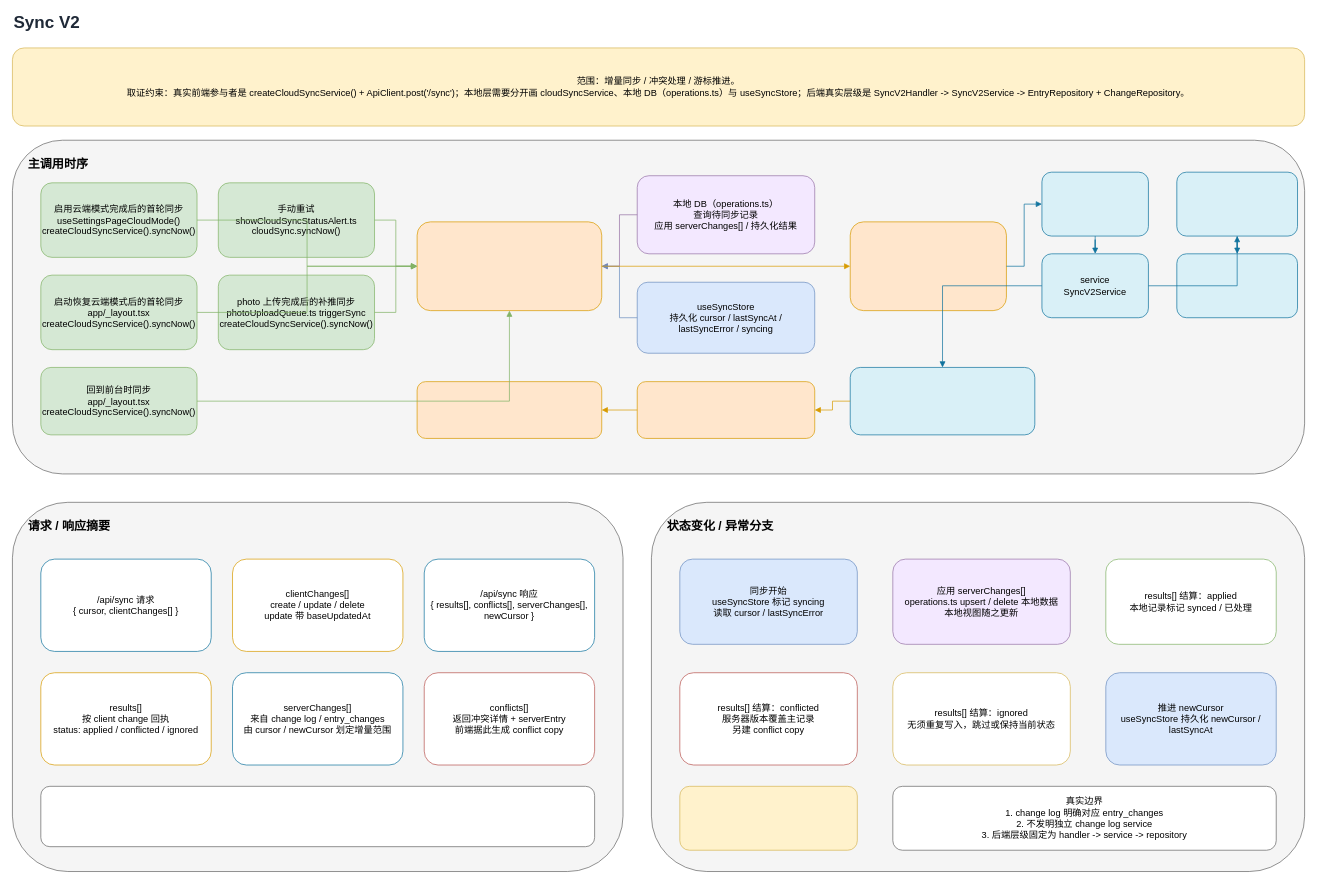
Image size: 1317x884. Some labels were removed from this diagram. The centre of each missing label's shape, as x and y in pixels:
ApiClient.post('/sync') 对应 HTTP /api/sync: (x=928, y=266)
change log entry_changes append / ListSinceCursor: (x=1237, y=285)
cloudSyncService (createCloudSyncService()) 读取 cursor；收集 clientChanges[]；编排同步: (x=509, y=266)
handler SyncV2Handler: (x=1094, y=203)
repository EntryRepository + ChangeRepository: (x=1237, y=203)
syncNow 失败 markSyncFailure(lastSyncError) showCloudSyncStatusAlert.ts 可再次手动重试: (x=768, y=818)
前端相对 path：/sync ApiClient baseURL 组合后真实 HTTP 路径：/api/sync: (x=317, y=816)
响应返回 results[] + conflicts[] + serverChanges[] + newCursor: (x=942, y=401)
应用 serverChanges[] cloudSyncService -> operations.ts 落库: (x=726, y=409)
推进 newCursor cloudSyncService -> useSyncStore.setCursor(newCursor): (x=509, y=409)
